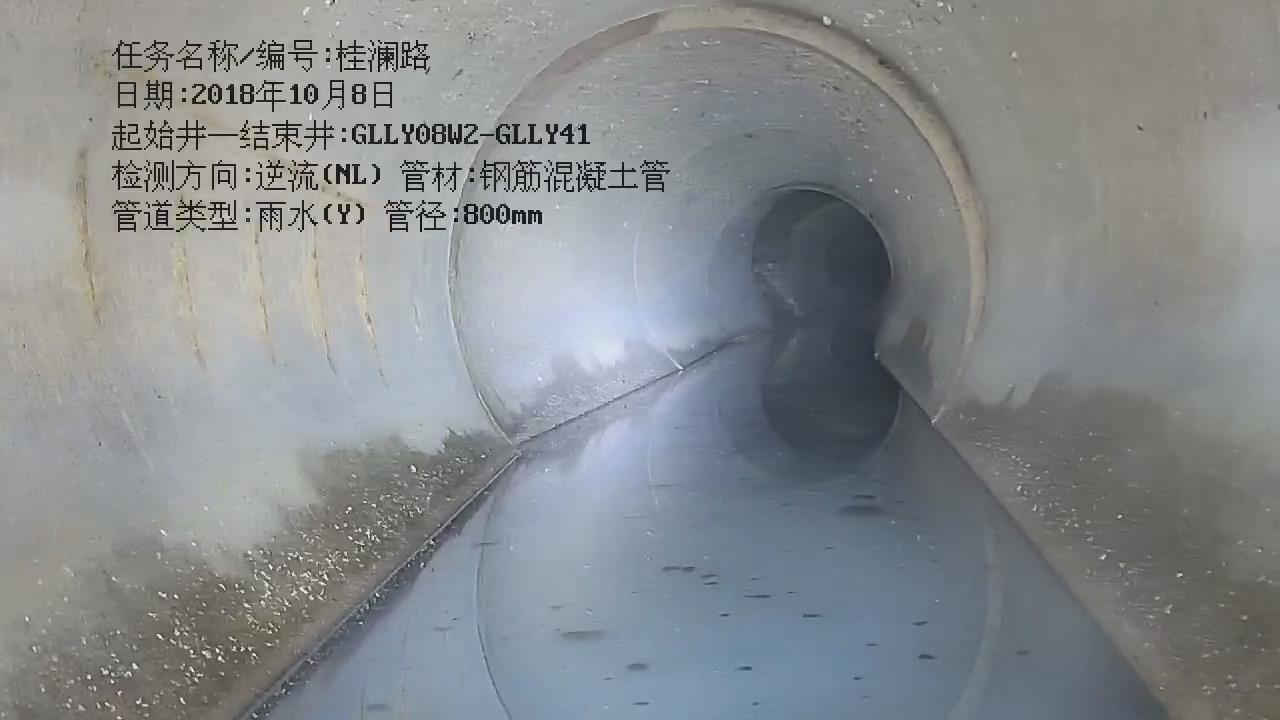CKTJ: (559, 1, 988, 414)
